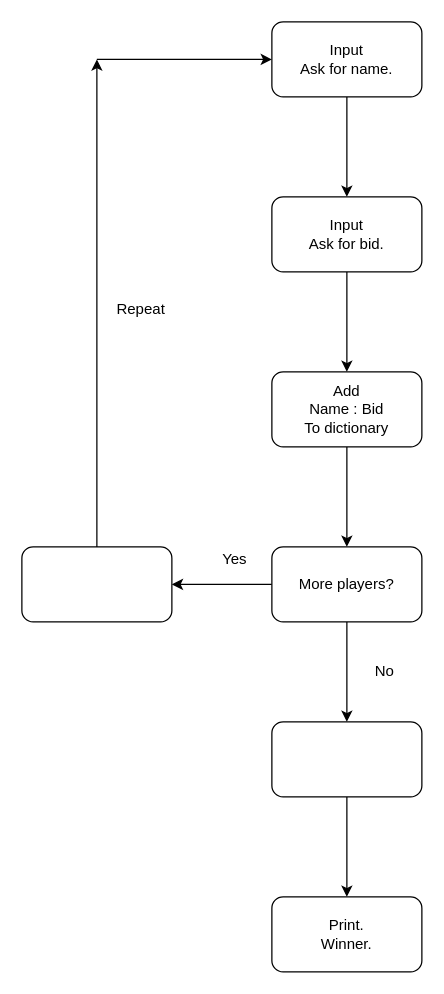
Image size: 444x994. Some labels were removed from this diagram. The centre of each missing label's shape, as x and y in pixels:
Clear screen.: point 96,584
For loop. Determine highest bidder.: point 346,759
